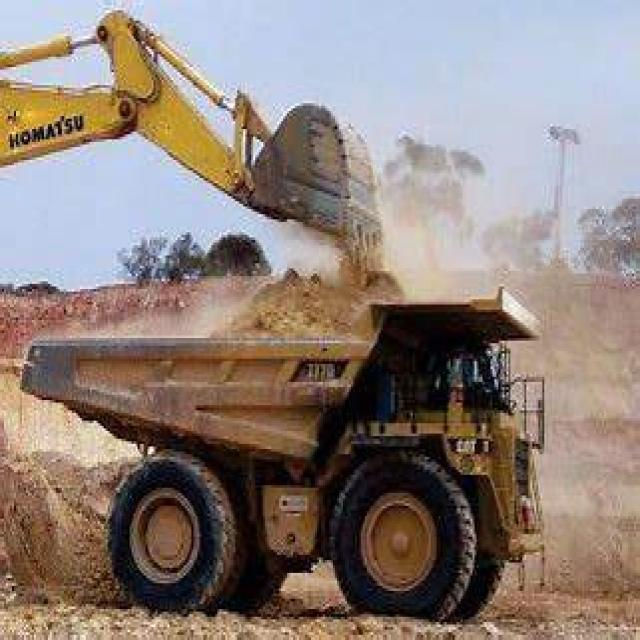dump_truck: (12, 274, 574, 612)
excavator: (2, 2, 395, 266)
